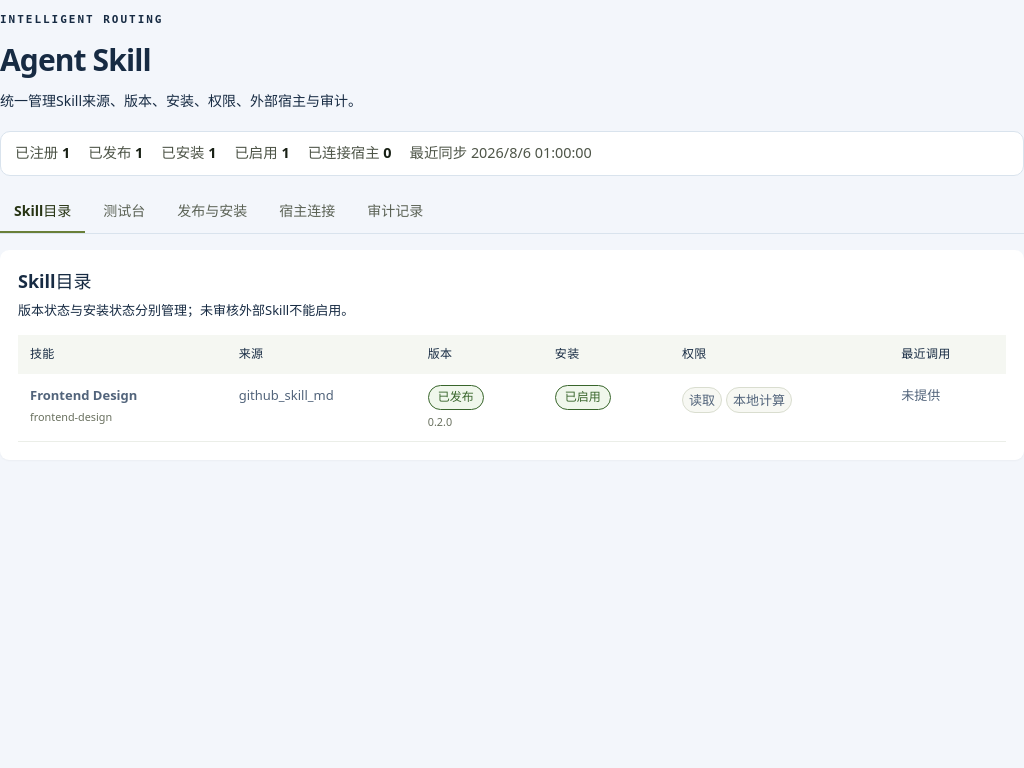
Agent Skill management UI › does not allow an instruction-only functional invocation without a user task
Click the button "测试台" at (124, 212), box left=89, top=190, right=159, bottom=233
(page scrolled)
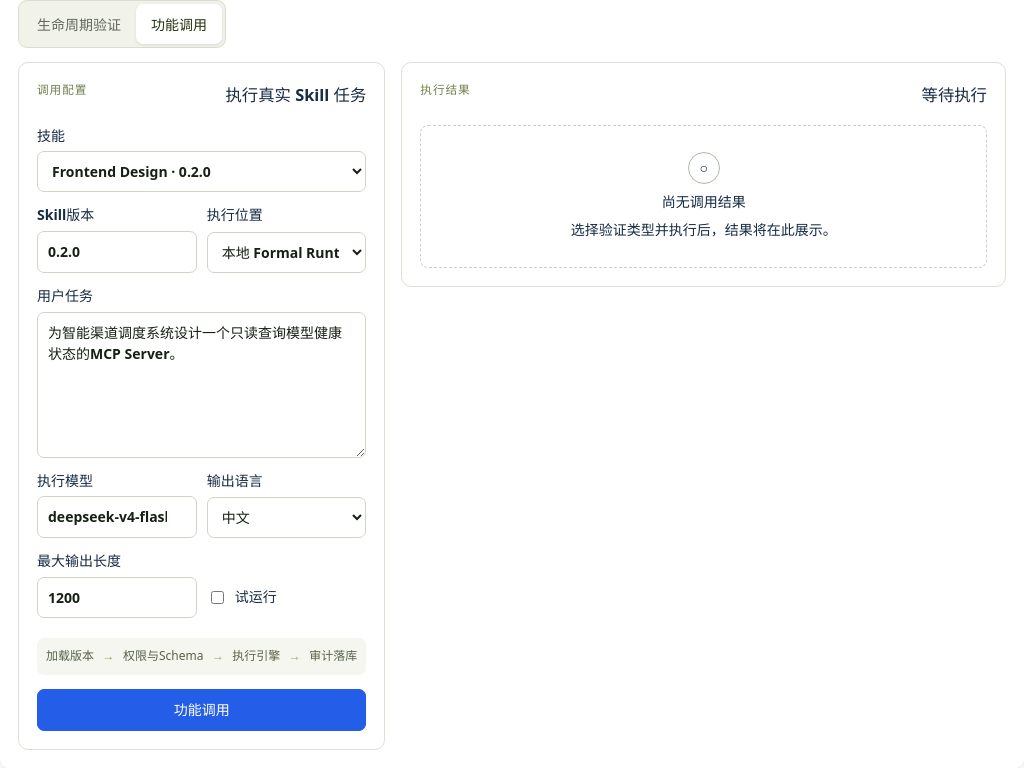
Clear the text box labelled "用户任务" at (202, 384), box left=37, top=312, right=366, bottom=458
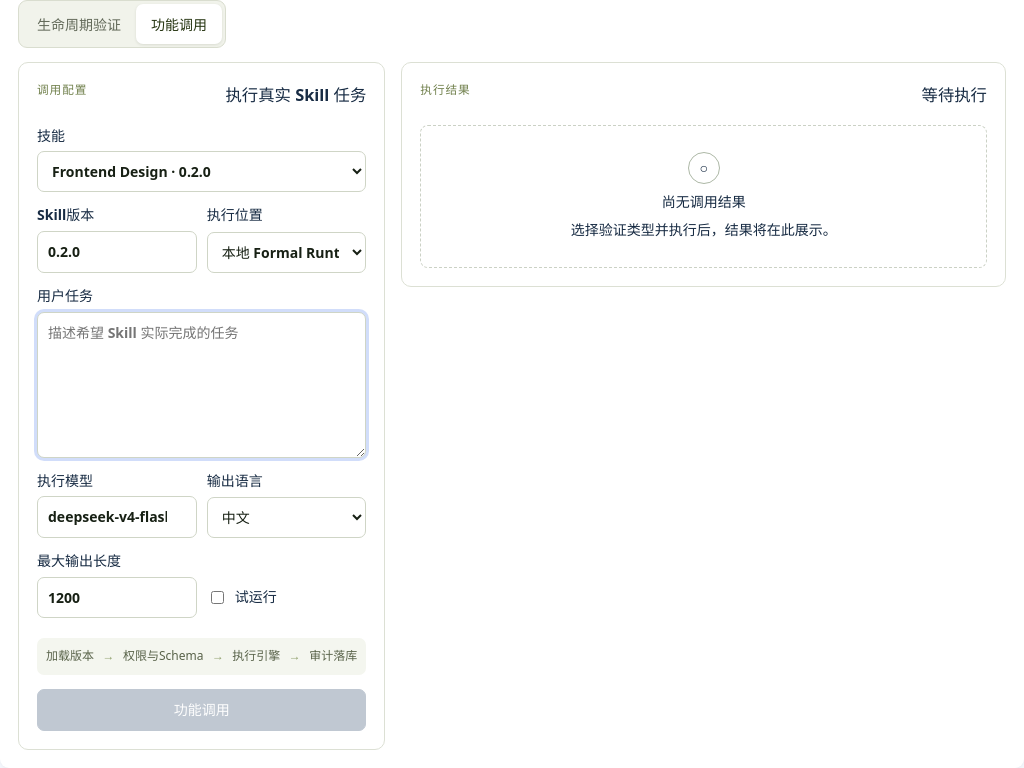
Expected: the button "功能调用" below "加载版本" is disabled, left=37, top=689, right=366, bottom=731
